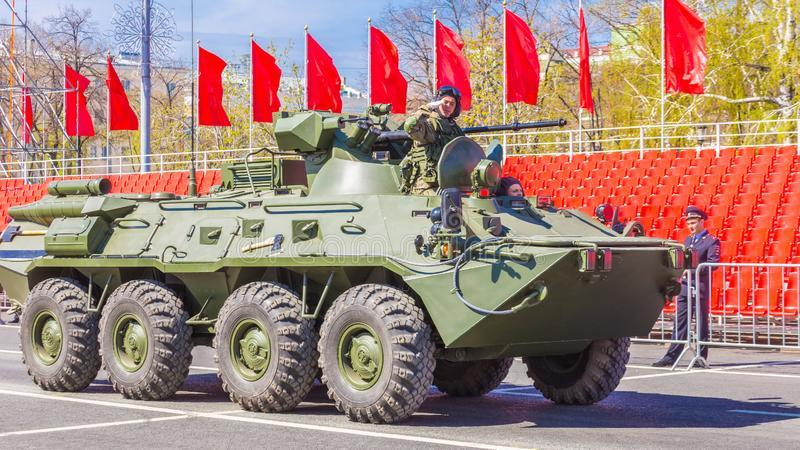btr: (10, 118, 678, 426)
